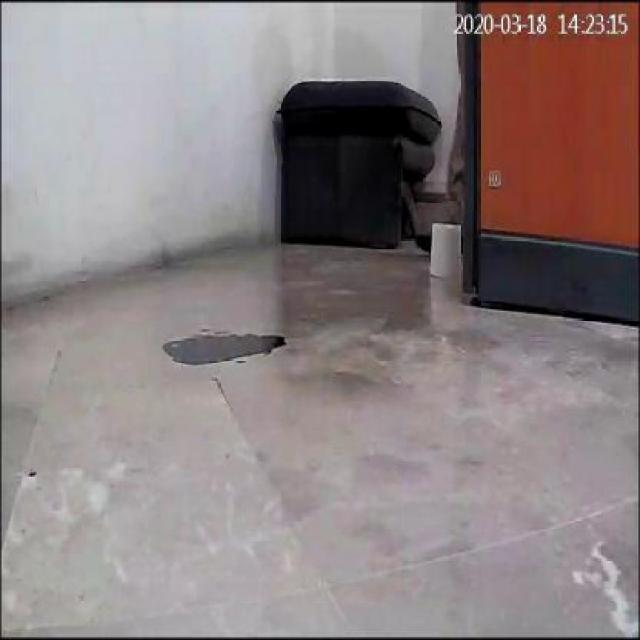spill: (159, 328, 287, 367)
